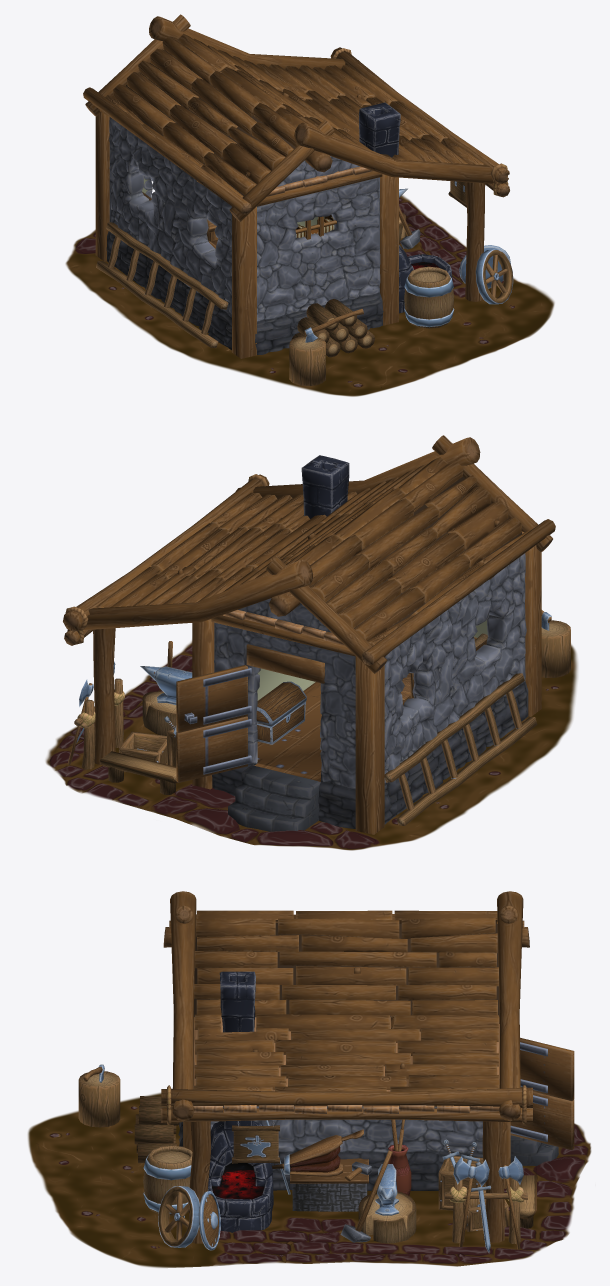
Rendered from blacksmith.glb.
3 renders of one model, top to bottom at view 1: azimuth 30°, elevation 25°; view 2: azimuth 150°, elevation 25°; view 3: azimuth 270°, elevation 25°, orthographic. The views are drawn at different scales.
Visible parts, largest first — view 1: Wall_low, Roof_low, Ground_high, RoofSupport_low, RoofSupport3_low, Forge_low, RoofSupport6_low, Ladder_low, RoofSupport9_low, Barrel_low, RoofSupport2_low, RoofSupport4_low (+6 smaller); view 2: Wall_low, Roof_low, Ground_high, RoofSupport_low, RoofSupport3_low, Stairs_low, Ladder_low, RoofSupport6_low, RoofSupport9_low, Door1_low, Door2_low, RoofSupport2_low (+13 smaller); view 3: Roof_low, Ground_high, Wall_low, RoofSupport3_low, Forge_low, RoofSupport4_low, RoofSupport2_low, RoofSupport5_low, Planks_low, Door1_low, StumpWoodcutter_low, WorkbenchStone_low (+21 smaller).
Boxes of the visible parts, bbox=[...] form: Wall_low: bbox=[106, 47, 383, 354]; Roof_low: bbox=[99, 33, 483, 197]; Ground_high: bbox=[65, 195, 554, 396]; RoofSupport_low: bbox=[95, 111, 398, 358]; RoofSupport3_low: bbox=[149, 16, 493, 183]; Forge_low: bbox=[359, 102, 452, 313]; RoofSupport6_low: bbox=[85, 14, 334, 221]; Ladder_low: bbox=[96, 222, 228, 348]; RoofSupport9_low: bbox=[83, 87, 251, 214]; Barrel_low: bbox=[404, 266, 454, 328]; RoofSupport2_low: bbox=[465, 182, 485, 301]; RoofSupport4_low: bbox=[330, 47, 509, 183]; Wall_low: bbox=[212, 476, 528, 828]; Roof_low: bbox=[96, 457, 530, 656]; Ground_high: bbox=[45, 641, 577, 850]; RoofSupport_low: bbox=[192, 545, 541, 834]; RoofSupport3_low: bbox=[84, 437, 480, 630]; Stairs_low: bbox=[228, 765, 320, 831]; Ladder_low: bbox=[384, 673, 537, 825]; RoofSupport6_low: bbox=[266, 435, 552, 673]; RoofSupport9_low: bbox=[361, 519, 555, 665]; Door1_low: bbox=[176, 665, 247, 732]; Door2_low: bbox=[176, 716, 247, 782]; RoofSupport2_low: bbox=[93, 628, 115, 764]; Roof_low: bbox=[193, 910, 499, 1091]; Ground_high: bbox=[28, 1092, 591, 1267]; Wall_low: bbox=[178, 923, 499, 1190]; RoofSupport3_low: bbox=[170, 891, 523, 1121]; Forge_low: bbox=[207, 971, 273, 1232]; RoofSupport4_low: bbox=[161, 1087, 532, 1107]; RoofSupport2_low: bbox=[189, 1121, 504, 1243]; RoofSupport5_low: bbox=[161, 1107, 532, 1122]; Planks_low: bbox=[193, 1017, 499, 1113]; Door1_low: bbox=[520, 1037, 574, 1100]; StumpWoodcutter_low: bbox=[78, 1071, 120, 1127]; WorkbenchStone_low: bbox=[292, 1183, 367, 1211].
Size of the model in its own units: 845 by 484 by 1011.
Materials: 7 (7 with a texture image).
